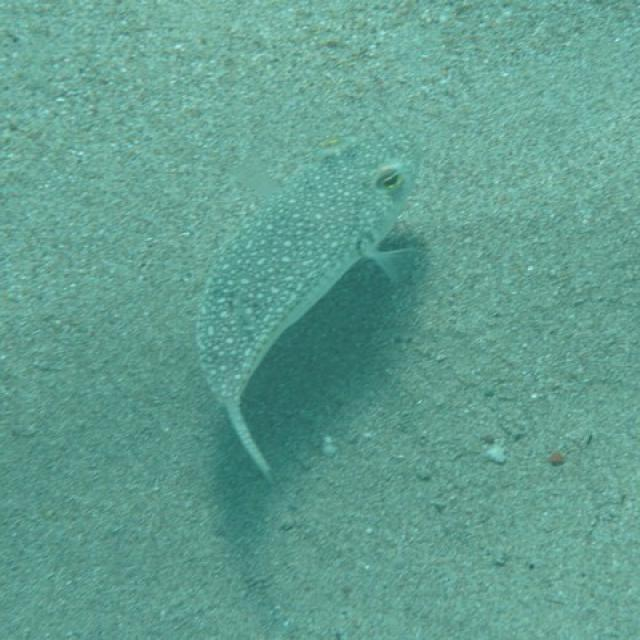Balik: (197, 139, 411, 476)
